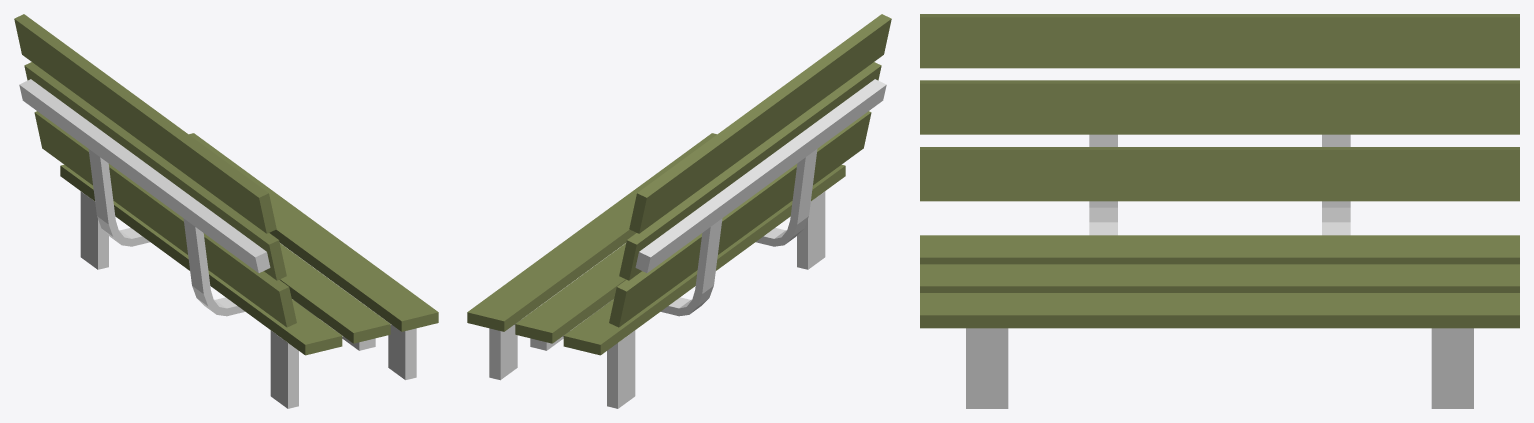
Rendered from Sitzbank.fbx.
3 renders of one model, left to right at view 1: azimuth 30°, elevation 25°; view 2: azimuth 150°, elevation 25°; view 3: azimuth 270°, elevation 25°, orthographic. The views are drawn at different scales.
Parts seen in each view (by area): view 1: Cube.007; view 2: Cube.007; view 3: Cube.007.
Part boxes in pixels (left/top/right/bottom): Cube.007: left=14, top=14, right=438, bottom=408; Cube.007: left=467, top=14, right=891, bottom=408; Cube.007: left=920, top=14, right=1519, bottom=408.
Size of the model in its own units: 488 by 620 by 1152.
